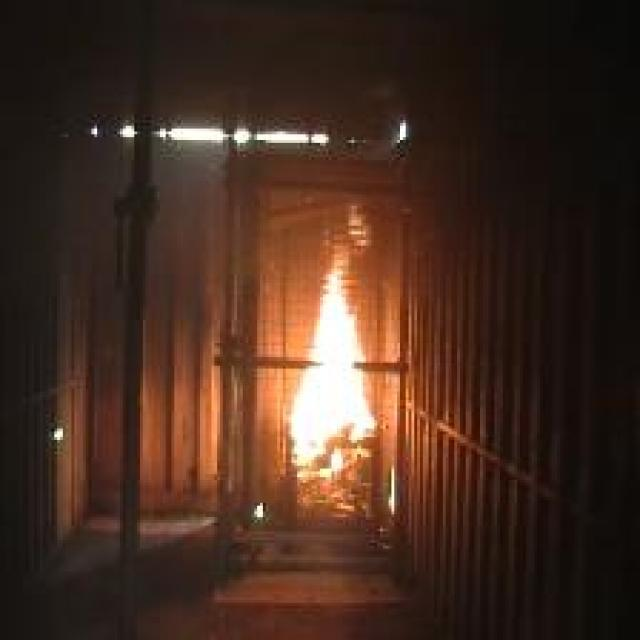Fire: (292, 262, 377, 482)
